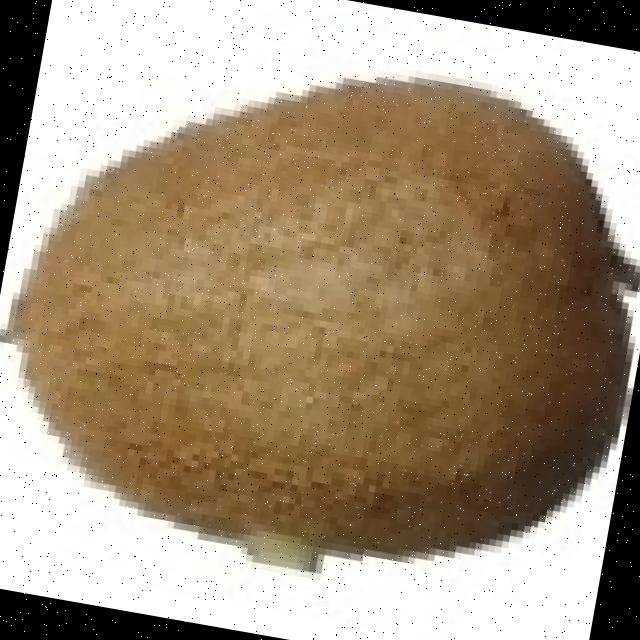kiwi: (9, 70, 629, 545)
